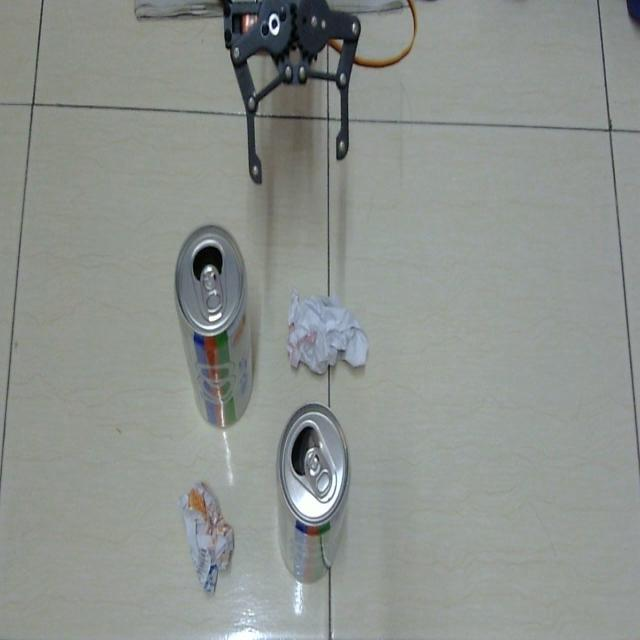Metal-stand-rotation: (169, 222, 260, 430), (276, 396, 351, 593)
Paperrotation: (282, 278, 378, 382), (178, 483, 238, 595)
